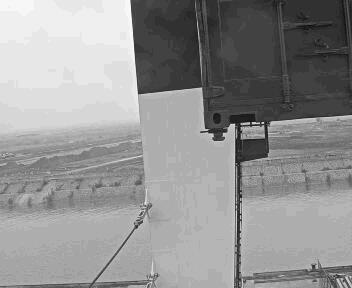twist_lock_1: (200, 123, 228, 150)
